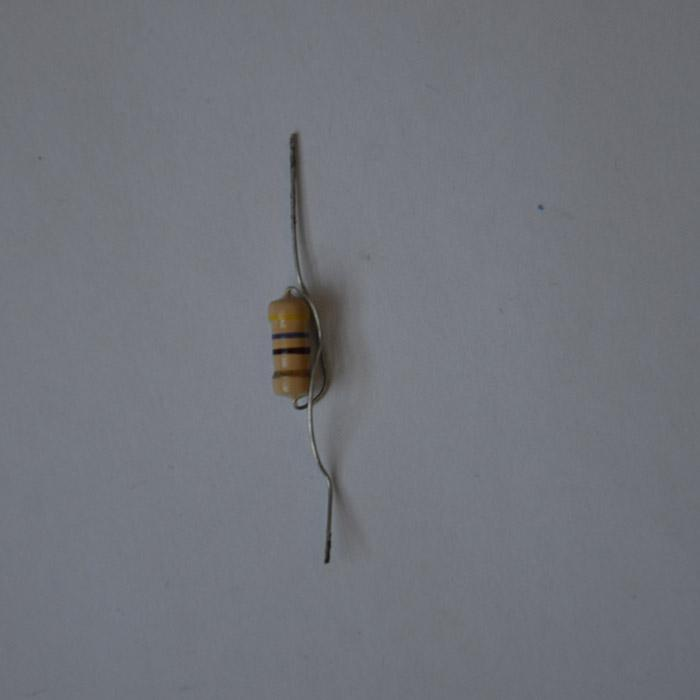resistor: (266, 287, 317, 402)
